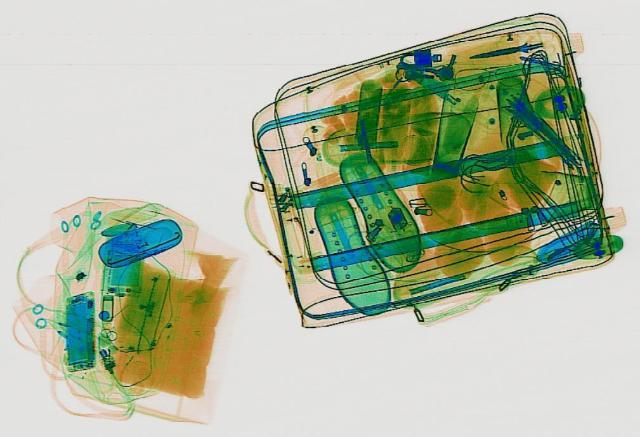Knife: (466, 36, 546, 62)
